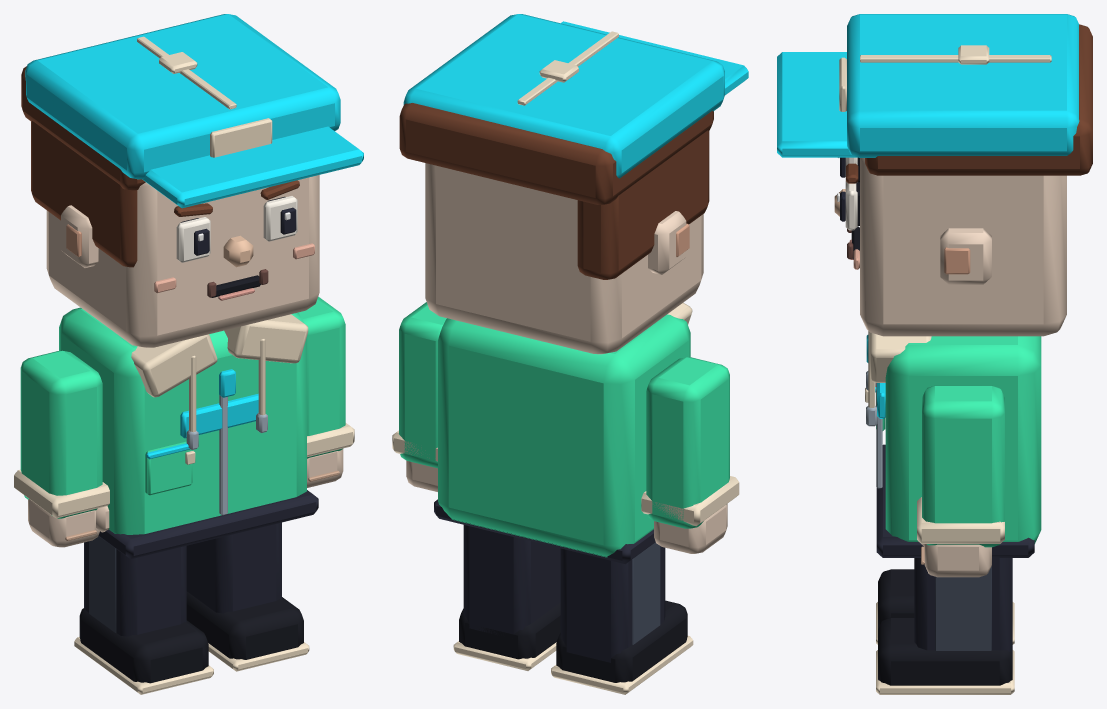
The model's file is guide.glb.
The picture shows the model from 3 angles, left to right: view 1: azimuth 30°, elevation 25°; view 2: azimuth 150°, elevation 25°; view 3: azimuth 270°, elevation 25°; orthographic projection. The views are drawn at different scales.
Visible parts, largest first — view 1: Cap, Jacket, Face, Arm_L_sleeve, CapBrim, HairSide, Leg_R_trouser, Leg_L_trouser, Leg_L_shoe, Leg_R_shoe, Arm_R_sleeve, JacketHem (+23 smaller); view 2: Jacket, Face, Cap, Hair, Arm_L_sleeve, HairSide, Leg_R_trouser, Leg_L_trouser, Arm_R_sleeve, Leg_L_shoe, Leg_R_shoe, TrouserSeam (+10 smaller); view 3: Cap, Face, Jacket, Arm_R_sleeve, CapBrim, Hair, Leg_R_shoe, TrouserSeam.001, Leg_R_trouser, JacketHem, Ear.001, Arm_R_hand (+9 smaller).
Part boxes in pixels (x1=…): Cap: x1=25, y1=14, x2=340, y2=179; Jacket: x1=59, y1=307, x2=306, y2=534; Face: x1=46, y1=175, x2=319, y2=347; Arm_L_sleeve: x1=20, y1=350, x2=102, y2=518; CapBrim: x1=142, y1=126, x2=363, y2=208; HairSide: x1=31, y1=121, x2=137, y2=267; Leg_R_trouser: x1=186, y1=522, x2=281, y2=613; Leg_L_trouser: x1=84, y1=541, x2=186, y2=636; Leg_L_shoe: x1=79, y1=608, x2=208, y2=683; Leg_R_shoe: x1=186, y1=591, x2=303, y2=659; Arm_R_sleeve: x1=298, y1=296, x2=345, y2=458; JacketHem: x1=98, y1=490, x2=318, y2=559; Jacket: x1=438, y1=314, x2=690, y2=557; Face: x1=425, y1=163, x2=703, y2=354; Cap: x1=403, y1=14, x2=724, y2=178; Hair: x1=399, y1=103, x2=713, y2=204; Arm_L_sleeve: x1=646, y1=357, x2=729, y2=528; HairSide: x1=577, y1=130, x2=709, y2=279; Leg_R_trouser: x1=463, y1=525, x2=560, y2=635; Leg_L_trouser: x1=560, y1=546, x2=665, y2=662; Arm_R_sleeve: x1=399, y1=302, x2=446, y2=468; Leg_L_shoe: x1=556, y1=600, x2=687, y2=682; Leg_R_shoe: x1=459, y1=602, x2=560, y2=659; TrouserSeam: x1=632, y1=542, x2=660, y2=644; Cap: x1=847, y1=14, x2=1079, y2=157; Face: x1=860, y1=158, x2=1066, y2=336; Jacket: x1=885, y1=336, x2=1041, y2=543; Arm_R_sleeve: x1=922, y1=385, x2=1004, y2=547; CapBrim: x1=777, y1=52, x2=857, y2=157; Hair: x1=865, y1=24, x2=1092, y2=175; Leg_R_shoe: x1=878, y1=617, x2=1012, y2=685; TrouserSeam.001: x1=935, y1=566, x2=991, y2=650; Leg_R_trouser: x1=914, y1=558, x2=1012, y2=653; JacketHem: x1=876, y1=444, x2=1034, y2=557; Ear.001: x1=940, y1=228, x2=991, y2=284; Arm_R_hand: x1=924, y1=544, x2=991, y2=577.
Size of the model in its own units: 0.697 by 1.29 by 0.61.
